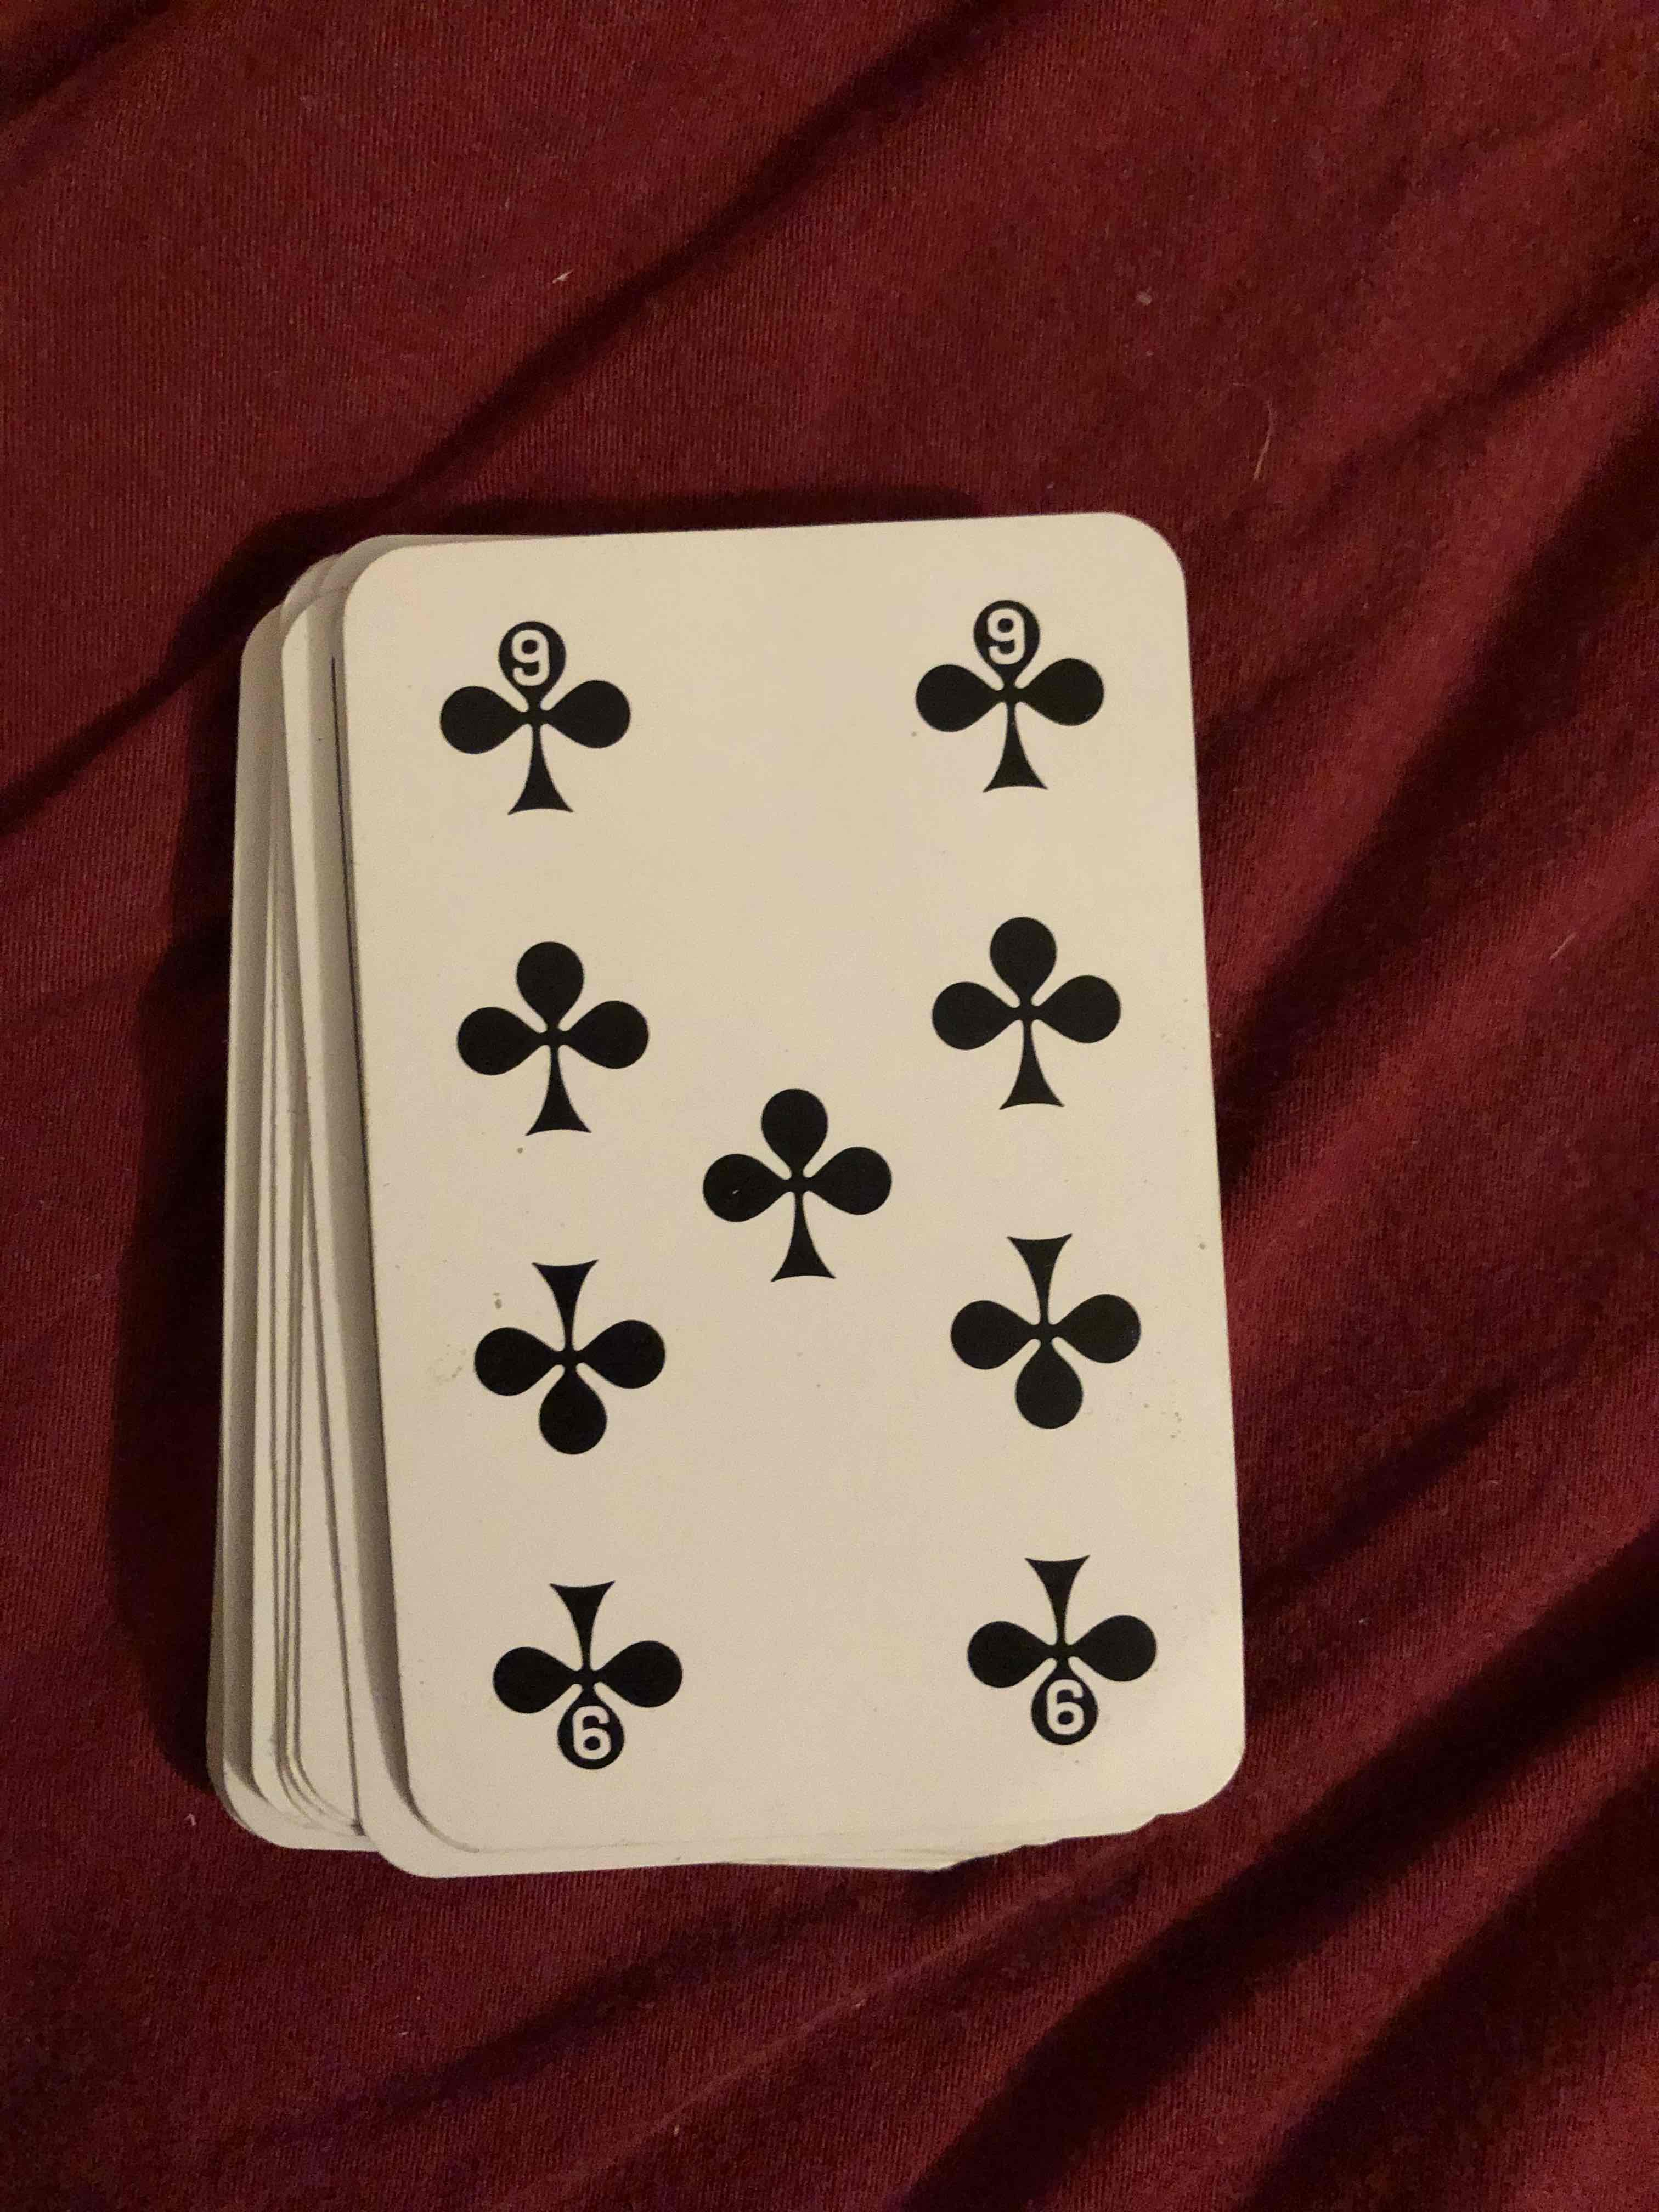clubs9: (340, 561, 1222, 1794)
